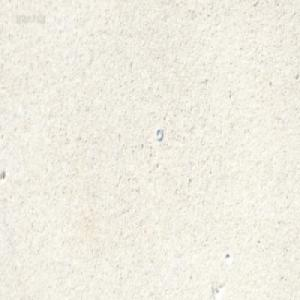Washer: (155, 126, 163, 140)
